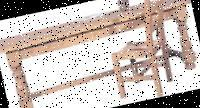Mesa: (0, 0, 199, 107)
Silla: (98, 0, 186, 105)
